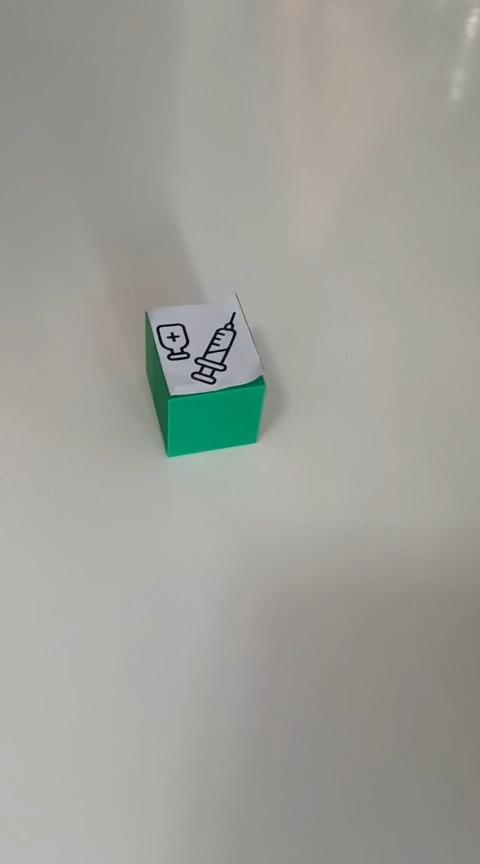antiseptic cream: (142, 290, 267, 457)
